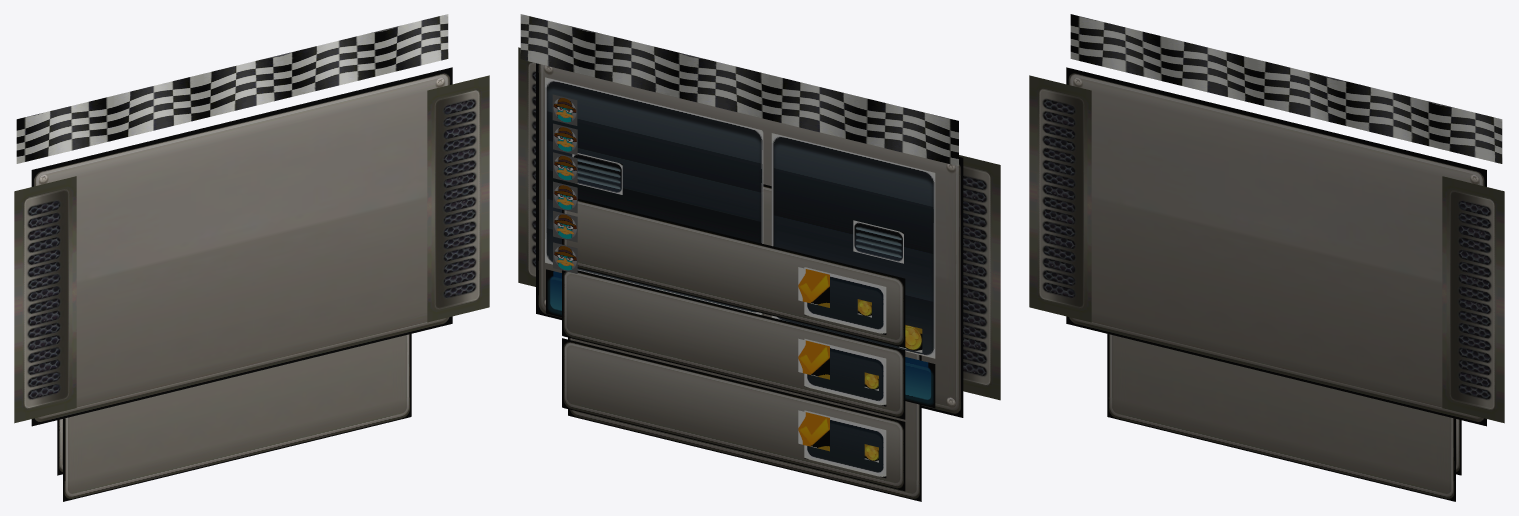
File: RaceResults.glb
3 views of the same model, side by side, from view 1: azimuth 30°, elevation 25°; view 2: azimuth 150°, elevation 25°; view 3: azimuth 330°, elevation 25° (orthographic).
Visible parts, largest first — view 1: Main Background, Backing, Top Flag Frame, trim left, trim right; view 2: Backing (×4), Result Group, Top Flag Frame, Dialog Inner Dialog, Main Background, status box (×3), trim right, trim left, Icon (×6), IconCheckmark (×3), vent right, vent left (+2 smaller); view 3: Main Background, Backing, Top Flag Frame, trim right, trim left.
Part boxes in pixels (left/top/right/bottom): Main Background: left=31, top=67, right=452, bottom=426; Backing: left=63, top=334, right=411, bottom=501; Top Flag Frame: left=16, top=14, right=448, bottom=163; trim left: left=427, top=75, right=489, bottom=322; trim right: left=14, top=176, right=76, bottom=423; Backing (×4): left=562, top=184, right=921, bottom=501; Result Group: left=545, top=77, right=763, bottom=315; Top Flag Frame: left=520, top=14, right=958, bottom=166; Dialog Inner Dialog: left=771, top=133, right=935, bottom=358; Main Background: left=536, top=63, right=963, bottom=417; status box (×3): left=804, top=267, right=886, bottom=478; trim right: left=959, top=155, right=1000, bottom=400; trim left: left=518, top=47, right=535, bottom=286; Icon (×6): left=552, top=94, right=577, bottom=273; IconCheckmark (×3): left=798, top=267, right=829, bottom=451; vent right: left=853, top=220, right=903, bottom=263; vent left: left=572, top=153, right=622, bottom=194; Main Background: left=1066, top=67, right=1486, bottom=426; Backing: left=1107, top=334, right=1455, bottom=501; Top Flag Frame: left=1070, top=14, right=1502, bottom=163; trim right: left=1029, top=75, right=1091, bottom=322; trim left: left=1442, top=176, right=1504, bottom=423.
Size of the model in its own units: 14.09 by 11.03 by 1.56.
4 materials, 4 textured.
